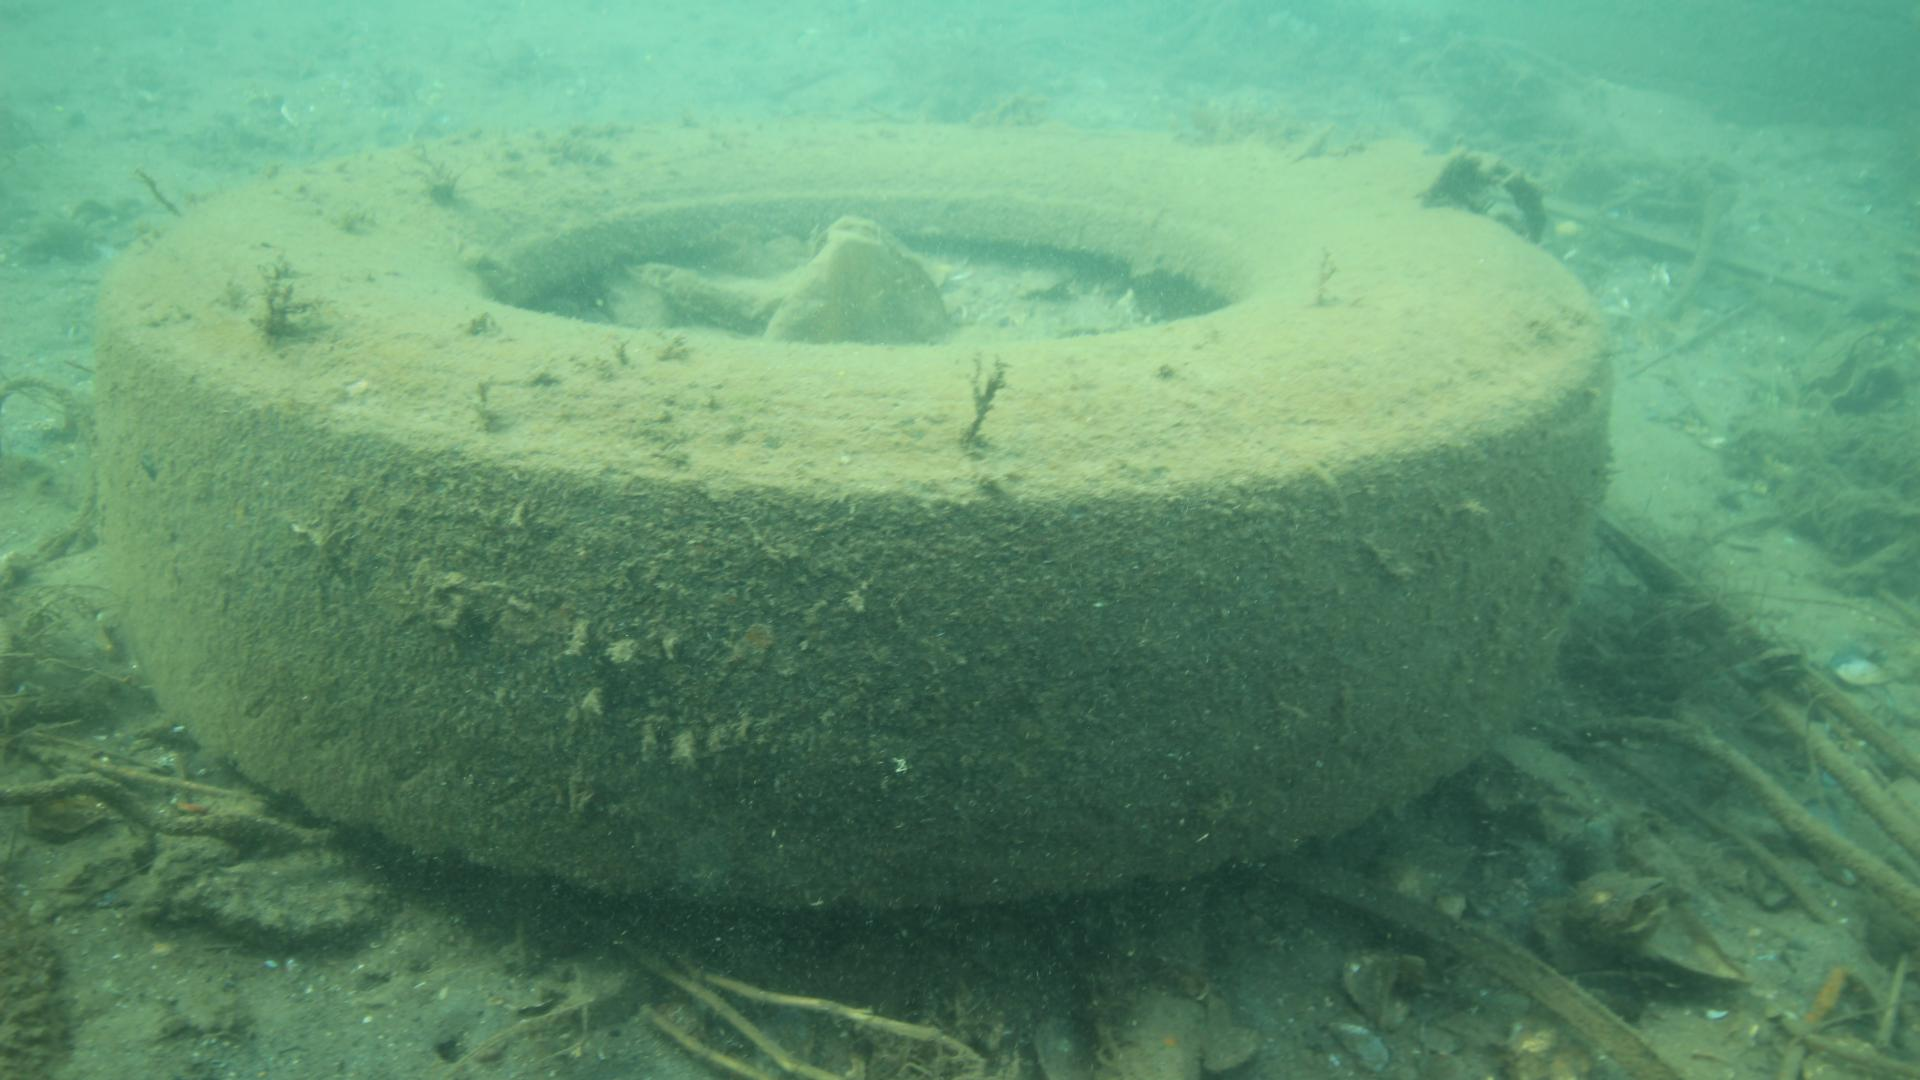rope: (0, 769, 342, 847)
tire: (94, 119, 1617, 910)
